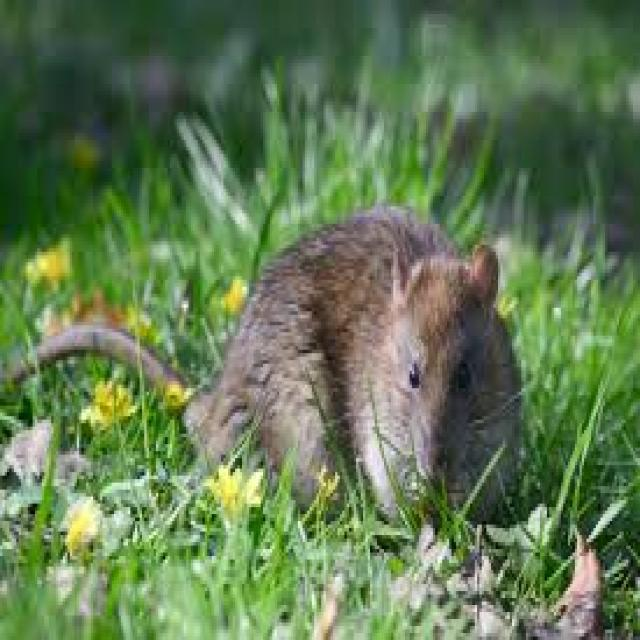Rat: (68, 111, 600, 565)
